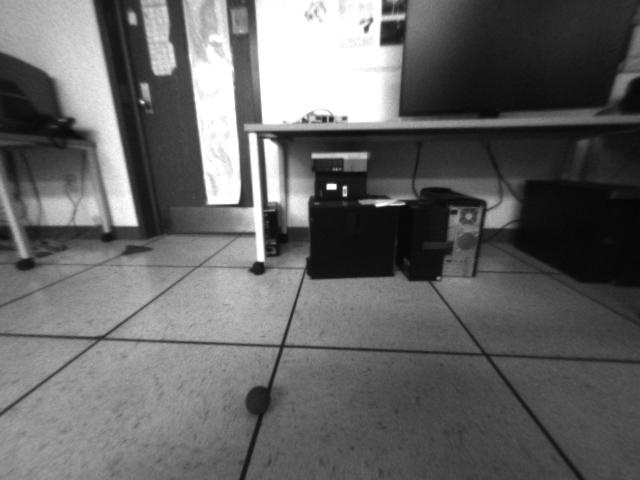dogtoy: (236, 377, 284, 421)
